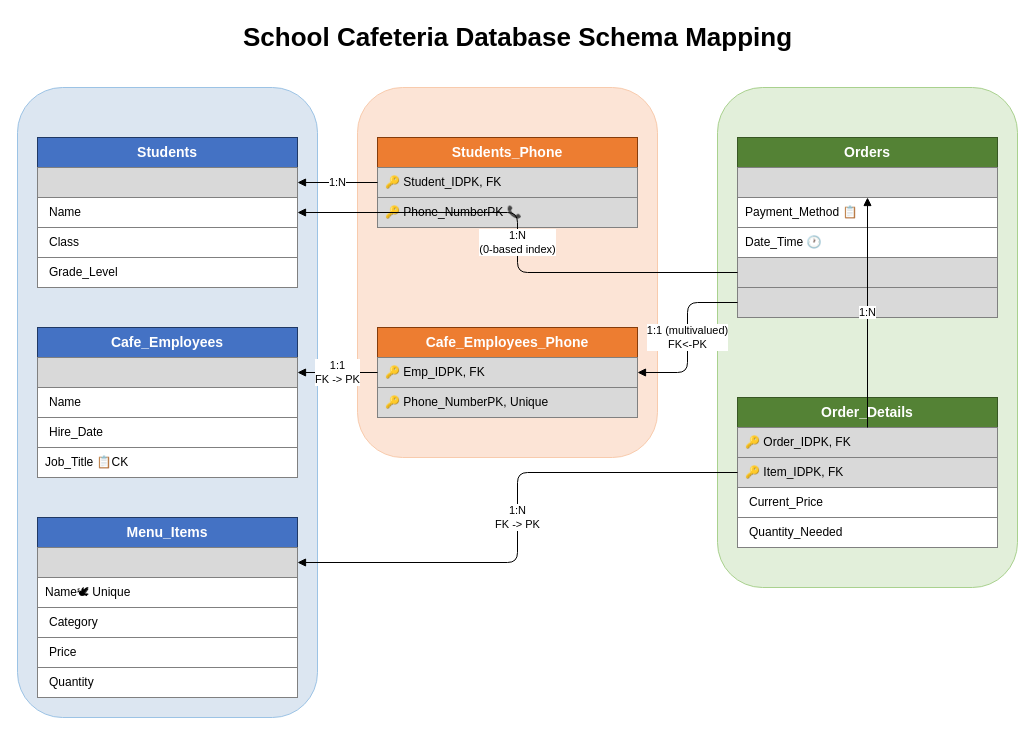
The diagram is 1035 pixels wide and 735 high, and some of its shapes have lost their labels. Each missing label, with the box of its shape:
fg2 FILEGROUP (NDF): (356, 86, 658, 458)
fg3 FILEGROUP (NDF): (716, 86, 1018, 588)
PRIMARY FILEGROUP (MDF, NDF): (16, 86, 318, 718)
🔑 Emp_ID FK: (736, 286, 998, 318)
🔑 Emp_ID PK, Identity: (36, 356, 298, 388)
🔑 Item_ID PK, Identity: (36, 546, 298, 578)
🔑 Order_ID PK, Identity: (736, 166, 998, 198)
🔑 Student_ID FK: (736, 256, 998, 288)
🔑 Student_ID PK, Identity: (36, 166, 298, 198)
